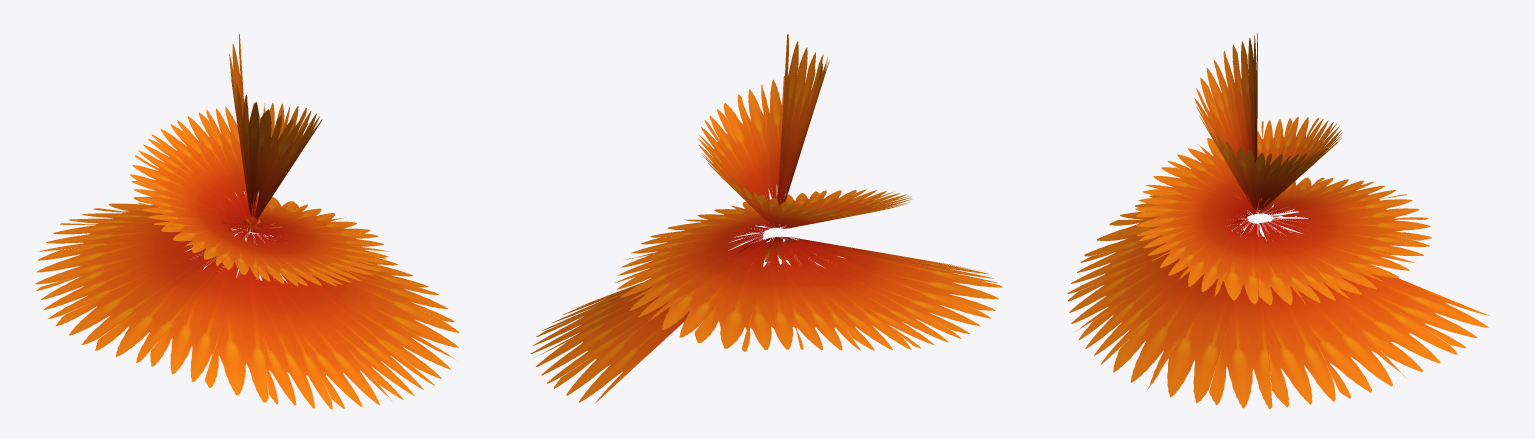
The model's file is CoralWorm_Red.FBX.
3 views of the same model, side by side, from view 1: azimuth 30°, elevation 25°; view 2: azimuth 150°, elevation 25°; view 3: azimuth 270°, elevation 25° (orthographic). The views are drawn at different scales.
Visible parts, largest first — view 1: CoralWorm_Red; view 2: CoralWorm_Red; view 3: CoralWorm_Red.
Part boxes in pixels (x1,y1,x2,y2): CoralWorm_Red: (35, 34, 459, 409); CoralWorm_Red: (530, 34, 1002, 403); CoralWorm_Red: (1067, 32, 1489, 409).
Size of the model in its own units: 120 by 95.53 by 128.
